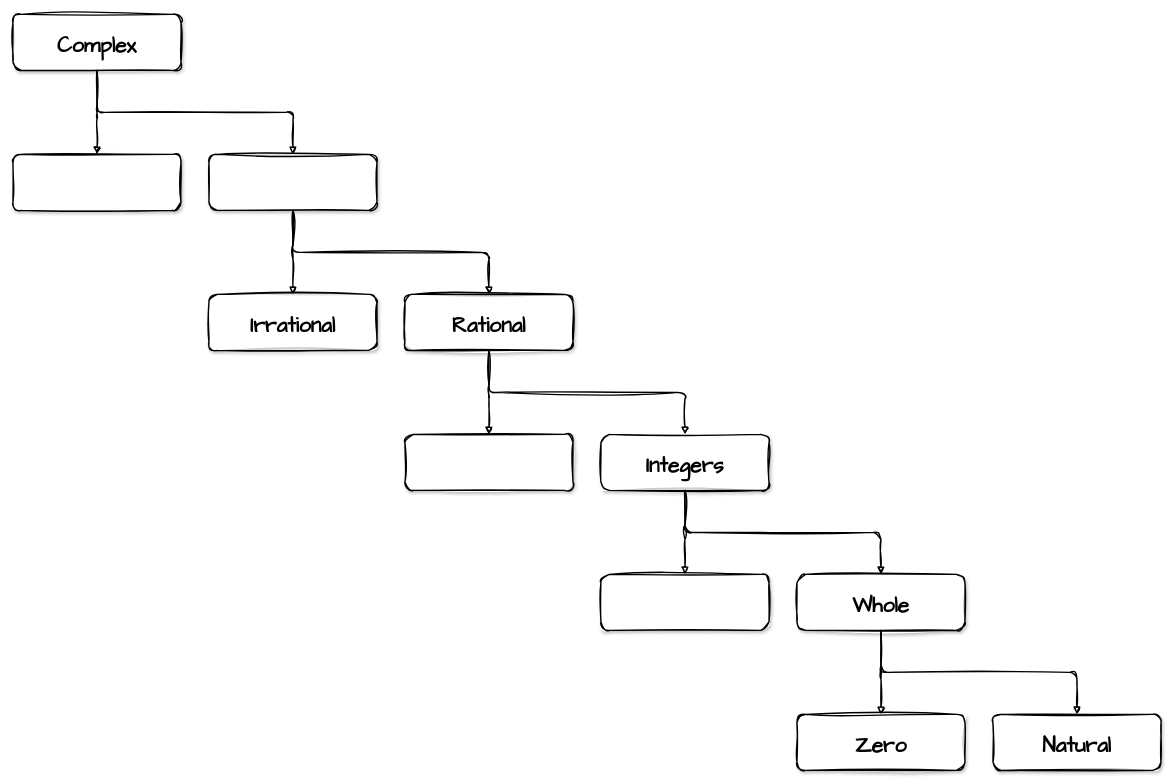
The diagram is 1173 pixels wide and 784 high, and some of its shapes have lost their labels. Here are the shapes that lost their labels. From the top down, the centre of each, then its label:
At (97,183): "Imaginary".
At (293,183): "Real".
At (489,463): "Fraction".
At (685,603): "Negative".
